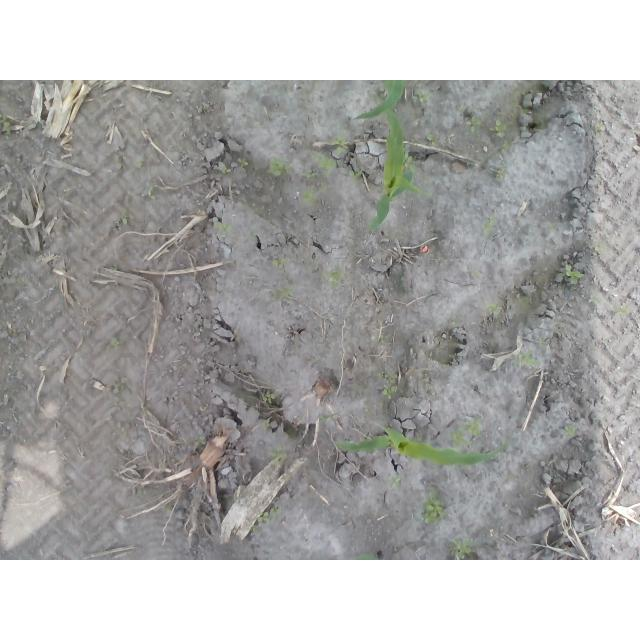Maize: (367, 94, 434, 230), (332, 420, 513, 469), (352, 82, 405, 123)
Weeds: (248, 503, 280, 533), (453, 416, 484, 446), (422, 492, 445, 524), (449, 540, 474, 561), (515, 351, 541, 371), (269, 445, 288, 471), (563, 266, 586, 286), (304, 169, 328, 188), (332, 135, 349, 161), (269, 283, 293, 301), (326, 270, 346, 290), (400, 148, 416, 172), (488, 119, 508, 138), (316, 153, 335, 173), (111, 378, 132, 395), (268, 159, 289, 176), (121, 196, 132, 225), (271, 256, 289, 270), (467, 115, 480, 134), (381, 385, 398, 399), (349, 170, 363, 186), (193, 436, 207, 452), (484, 220, 497, 237), (426, 132, 439, 148), (486, 304, 502, 317), (412, 90, 429, 102), (1, 116, 12, 134), (214, 221, 228, 235), (301, 190, 316, 203), (378, 334, 392, 347), (264, 392, 277, 404), (148, 184, 157, 201), (137, 154, 146, 171), (566, 424, 578, 436), (612, 305, 626, 315), (390, 475, 400, 488), (221, 167, 232, 178), (595, 245, 606, 255), (113, 153, 120, 167), (495, 170, 505, 179), (239, 159, 249, 168), (111, 337, 120, 347), (588, 294, 596, 303), (266, 419, 270, 428), (599, 126, 605, 131)
